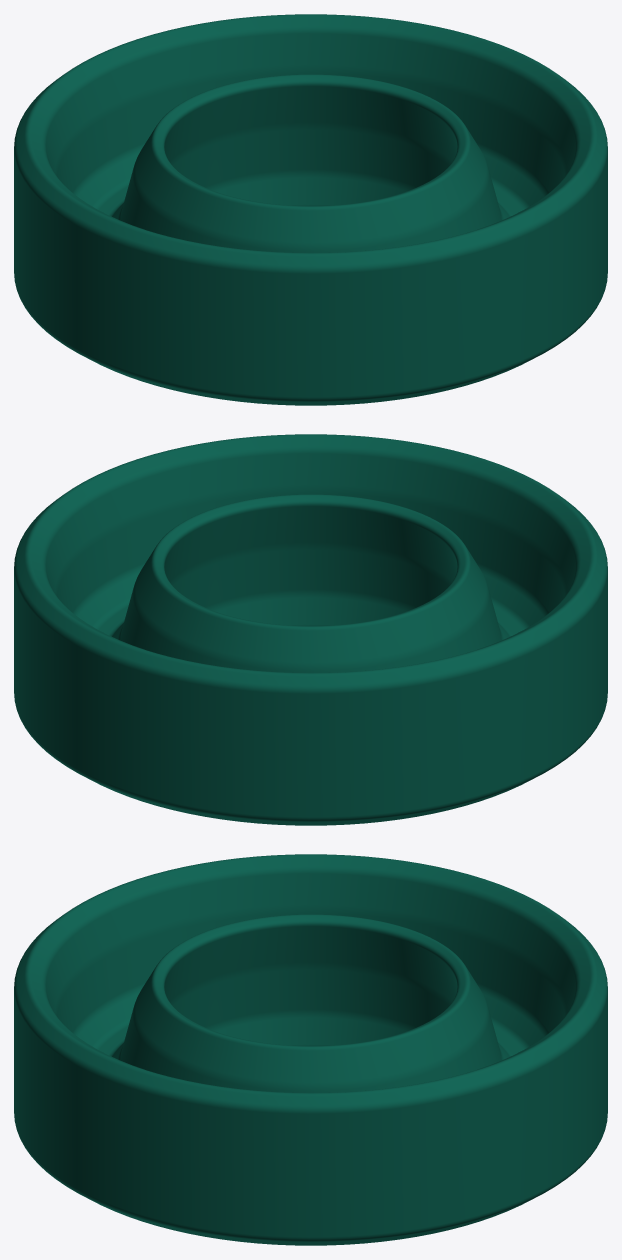
Rendered from seal.glb.
3 renders of one model, top to bottom at view 1: azimuth 30°, elevation 25°; view 2: azimuth 150°, elevation 25°; view 3: azimuth 270°, elevation 25°, orthographic.
Parts seen in each view (by area): view 1: body; view 2: body; view 3: body.
Boxes of the visible parts, box(x1,y1,x2,y2) form: body: box(14, 14, 607, 405); body: box(14, 434, 607, 825); body: box(14, 854, 607, 1245).
Size of the model in its own units: 1.6 by 0.4636 by 1.6.
